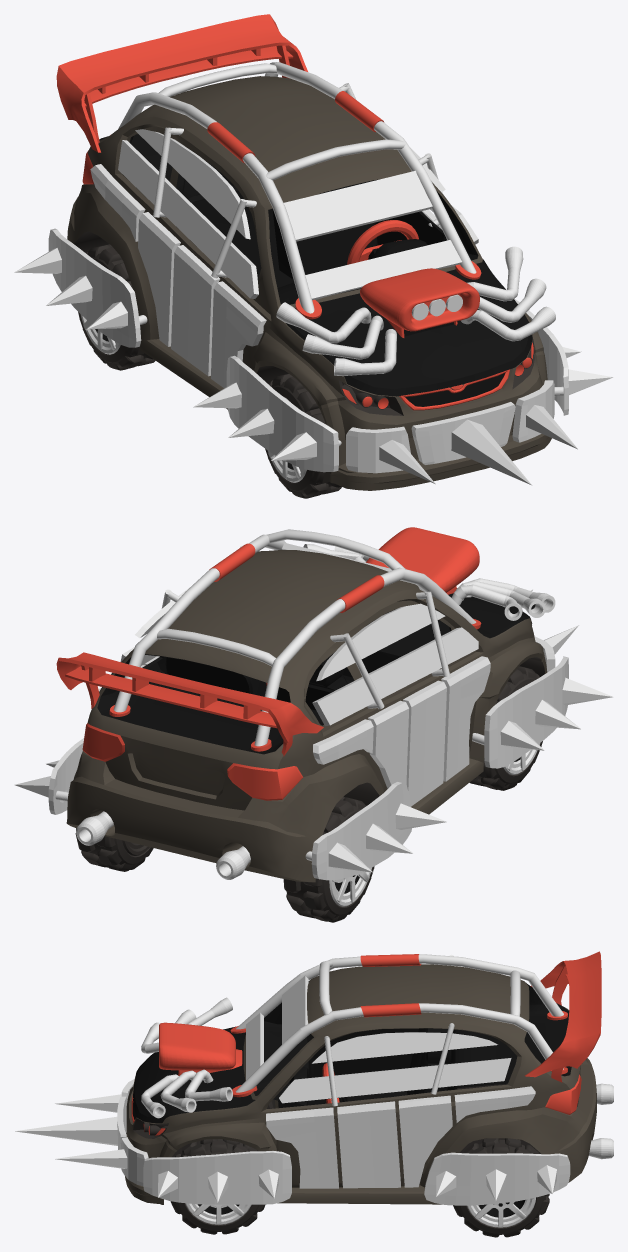
The model's file is Rally.fbx.
The picture shows the model from 3 angles, top to bottom: view 1: azimuth 30°, elevation 25°; view 2: azimuth 150°, elevation 25°; view 3: azimuth 270°, elevation 25°; orthographic projection. The views are drawn at different scales.
Visible parts, largest first — view 1: HCR2_Rally_Body, Cube.005, HCR2_Rally_Spoiler, HCR2_Rally_Hood, HCR2_Rally_Cage, Cone.001, Cylinder.006, Cylinder.003, Cube.009, HCR2_Rally_Interior, Cylinder.010, Cylinder.004 (+8 smaller); view 2: HCR2_Rally_Body, Cube.005, Cylinder.006, HCR2_Rally_Interior, HCR2_Rally_Cage, Cylinder.004, HCR2_Rally_Spoiler, Cylinder.003, Cube.012, HCR2_Rally_RL_Wheel.003, HCR2_Rally_Lcover, Cylinder.010 (+6 smaller); view 3: HCR2_Rally_Body, Cube.005, Cylinder.006, HCR2_Rally_Cage, HCR2_Rally_Interior, Cylinder.003, Cylinder.004, HCR2_Rally_Spoiler, Cone.001, HCR2_Rally_RL_Wheel, Cube.012, HCR2_Rally_Hood (+6 smaller).
Boxes of the visible parts, <box> form: HCR2_Rally_Body: <box>67,76,551,490</box>; Cube.005: <box>90,164,441,388</box>; HCR2_Rally_Spoiler: <box>56,14,307,152</box>; HCR2_Rally_Hood: <box>286,259,532,396</box>; HCR2_Rally_Cage: <box>118,62,476,313</box>; Cone.001: <box>346,380,577,485</box>; Cylinder.006: <box>118,83,478,298</box>; Cylinder.003: <box>193,298,613,472</box>; Cube.009: <box>283,170,461,300</box>; HCR2_Rally_Interior: <box>99,134,478,304</box>; Cylinder.010: <box>276,246,555,376</box>; Cylinder.004: <box>14,228,147,347</box>; HCR2_Rally_Body: <box>66,550,547,882</box>; Cube.005: <box>98,656,490,806</box>; Cylinder.006: <box>120,545,478,725</box>; HCR2_Rally_Interior: <box>97,609,451,754</box>; HCR2_Rally_Cage: <box>113,529,476,746</box>; Cylinder.004: <box>14,738,446,880</box>; HCR2_Rally_Spoiler: <box>56,652,323,756</box>; Cylinder.003: <box>472,656,612,768</box>; Cube.012: <box>366,527,479,592</box>; HCR2_Rally_RL_Wheel.003: <box>283,797,374,922</box>; HCR2_Rally_Lcover: <box>82,723,303,800</box>; Cylinder.010: <box>303,544,555,620</box>; HCR2_Rally_Body: <box>125,964,596,1204</box>; Cube.005: <box>266,1086,535,1188</box>; Cylinder.006: <box>279,954,511,1106</box>; HCR2_Rally_Cage: <box>235,954,563,1092</box>; HCR2_Rally_Interior: <box>254,981,571,1107</box>; Cylinder.003: <box>143,1151,291,1204</box>; Cylinder.004: <box>424,1152,570,1205</box>; HCR2_Rally_Spoiler: <box>525,951,601,1082</box>; Cone.001: <box>15,1079,148,1186</box>; HCR2_Rally_RL_Wheel: <box>453,1138,549,1237</box>; Cube.012: <box>159,1022,235,1070</box>; HCR2_Rally_Hood: <box>133,1026,255,1123</box>.
Size of the model in its own units: 289 by 203 by 513.
